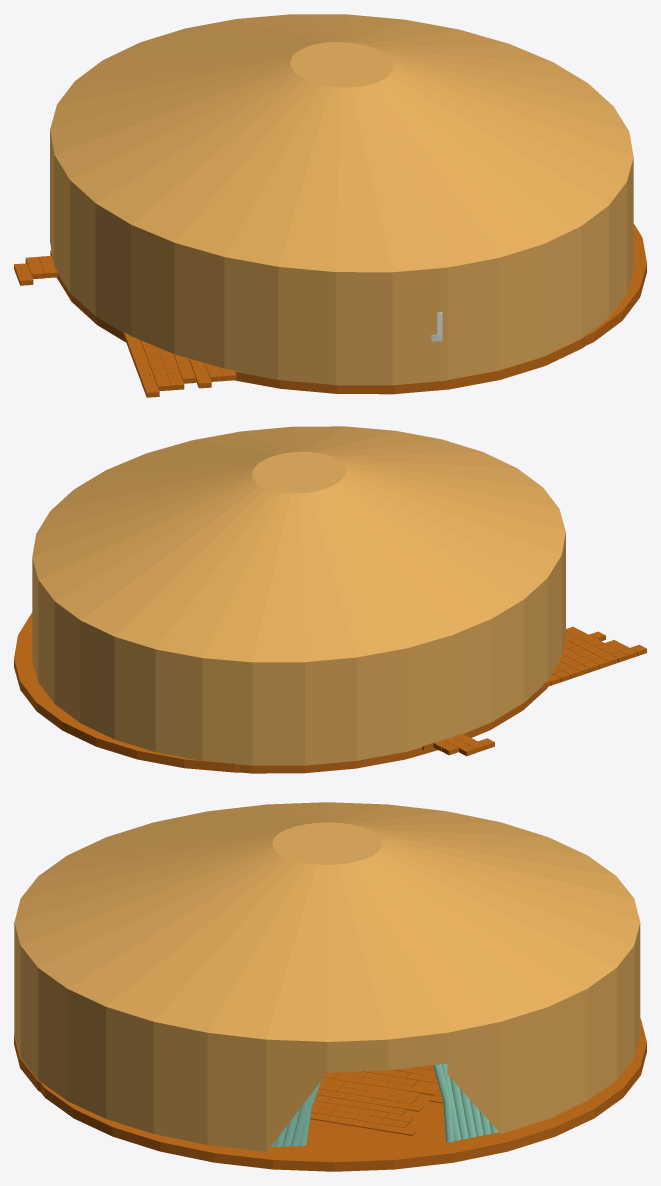
The model's file is Gameshow_Map.test.fbx.
3 views of the same model, one above another, from view 1: azimuth 30°, elevation 25°; view 2: azimuth 150°, elevation 25°; view 3: azimuth 270°, elevation 25° (orthographic). The views are drawn at different scales.
Parts seen in each view (by area): view 1: Cylinder.002, Cylinder, Cube.022, Cylinder.008, Cube.012; view 2: Cylinder.002, Cylinder.008, Cube.022, Cylinder, Cube.012; view 3: Cylinder.002, Cylinder.008, Cylinder, Cube.205, Cube.109, Cylinder.039, Cylinder.040, Cylinder.034.
Part boxes in pixels (x1,y1,x2,y2): Cylinder.002: (50,14,633,385); Cylinder: (56,274,631,394); Cube.022: (123,332,236,397); Cylinder.008: (585,223,646,345); Cube.012: (14,250,57,285); Cylinder.002: (32,426,565,765); Cylinder.008: (14,612,239,772); Cube.022: (540,626,646,688); Cylinder: (31,654,547,773); Cube.012: (422,733,494,756); Cylinder.002: (14,802,640,1151); Cylinder.008: (39,1018,646,1171); Cylinder: (14,1034,598,1153); Cube.205: (310,1071,385,1129); Cube.109: (364,1065,442,1135); Cylinder.039: (433,1064,468,1142); Cylinder.040: (441,1063,476,1140); Cylinder.034: (282,1081,321,1146).
Size of the model in its own units: 9645 by 3511 by 9623.
